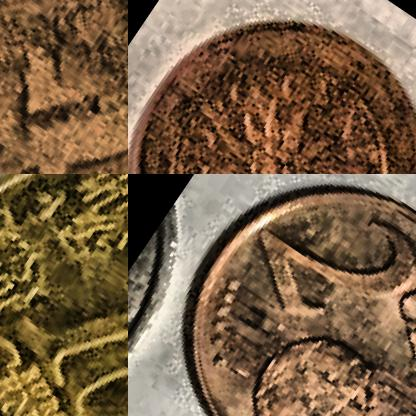coin: (128, 174, 415, 415), (128, 0, 415, 173), (0, 174, 127, 415), (0, 0, 127, 173)
